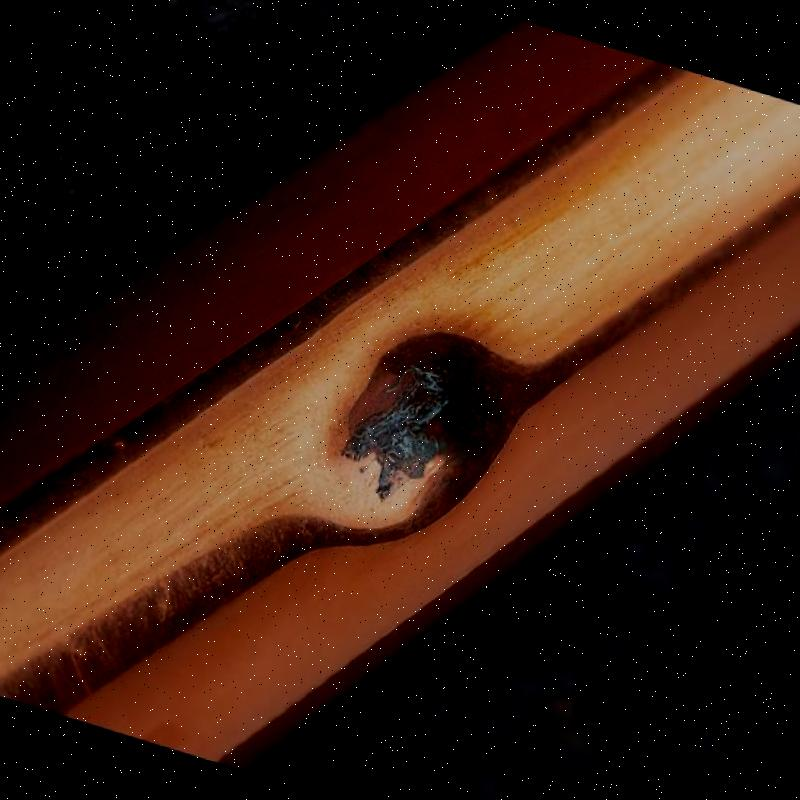Dent: (346, 287, 541, 512)
